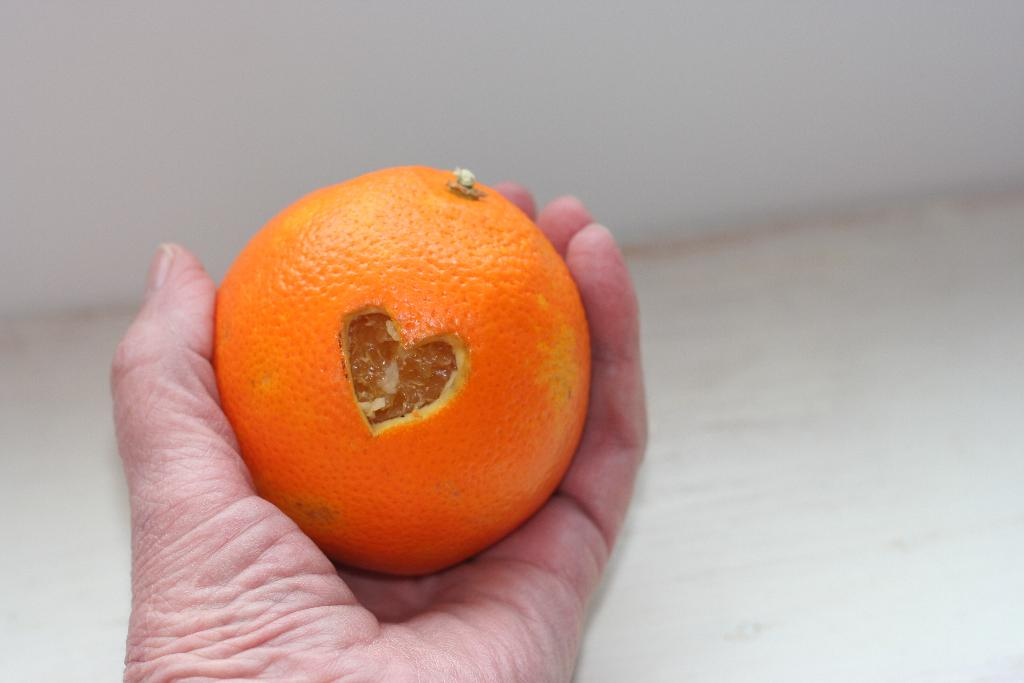Ripe: (201, 179, 611, 581)
